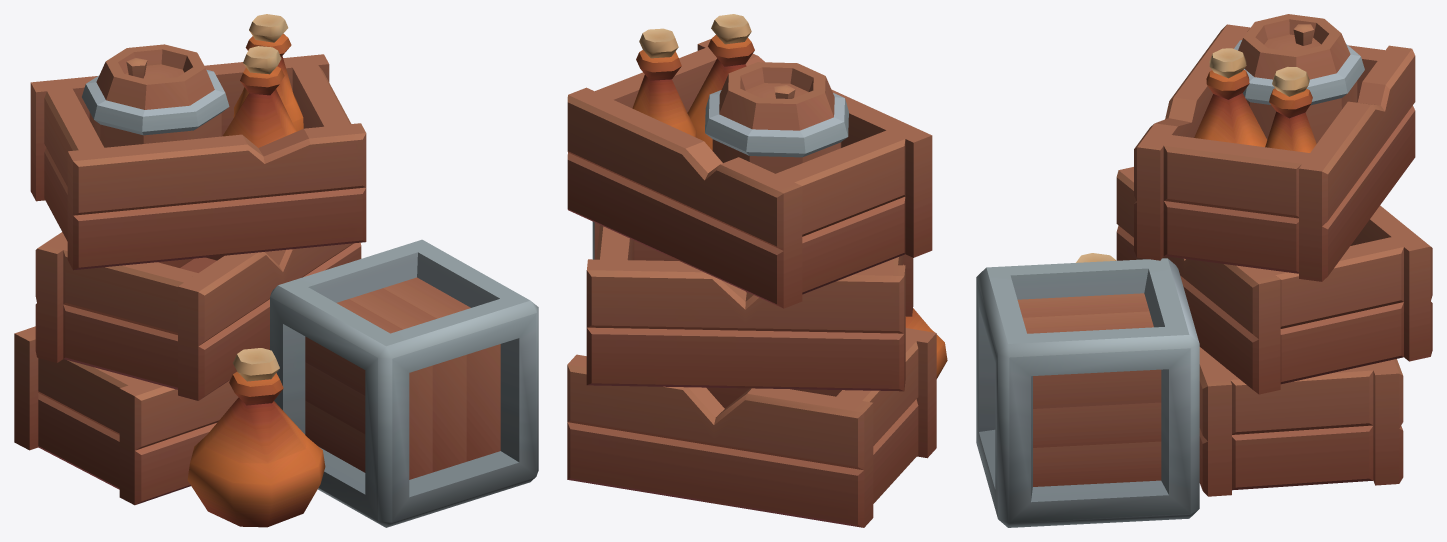
File: crates_stacked.glb
3 renders of one model, left to right at view 1: azimuth 30°, elevation 25°; view 2: azimuth 150°, elevation 25°; view 3: azimuth 270°, elevation 25°, orthographic. The views are drawn at different scales.
Visible parts, largest first — view 1: crates_stacked; view 2: crates_stacked; view 3: crates_stacked.
Part boxes in pixels (x1,y1,x2,y2): crates_stacked: (14, 14, 538, 527); crates_stacked: (567, 14, 947, 527); crates_stacked: (976, 14, 1432, 527).
Size of the model in its own units: 2.09 by 2.14 by 2.25.
Materials: 1 (1 with a texture image).
